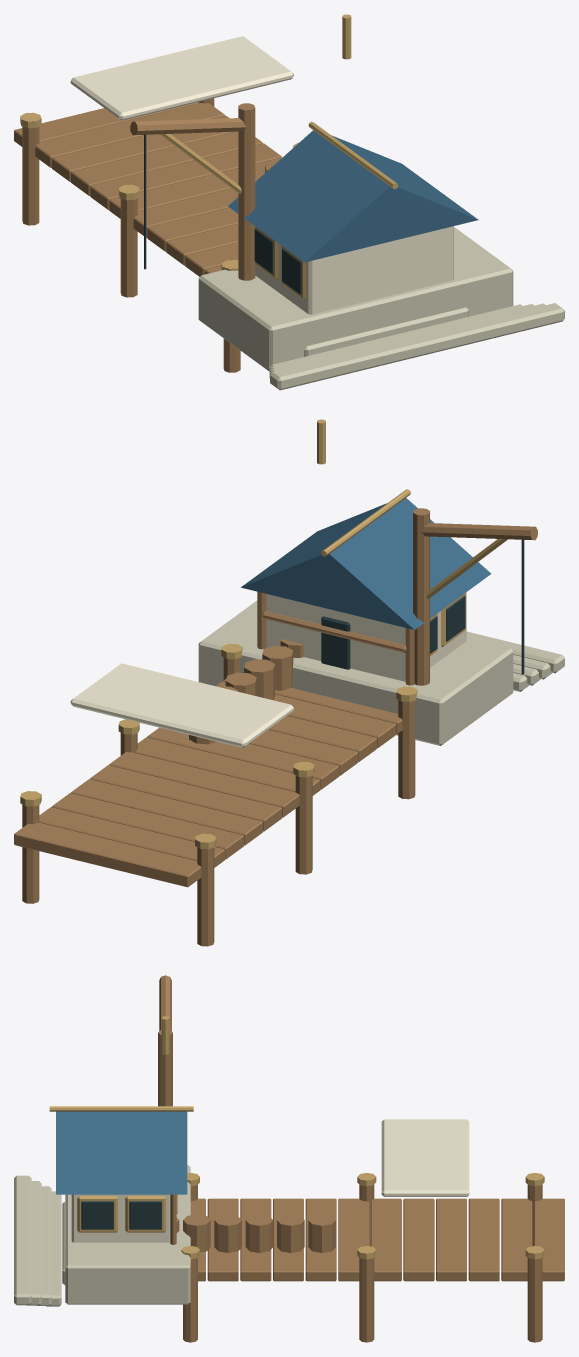
File: level_30.glb
3 views of the same model, one above another, from view 1: azimuth 30°, elevation 25°; view 2: azimuth 150°, elevation 25°; view 3: azimuth 270°, elevation 25° (orthographic). The views are drawn at different scales.
Parts seen in each view (by area): view 1: fishing_wharf — level 30; view 2: fishing_wharf — level 30; view 3: fishing_wharf — level 30.
Boxes of the visible parts, x1,y1,x2,y2 form: fishing_wharf — level 30: (14,14,564,390); fishing_wharf — level 30: (14,419,564,946); fishing_wharf — level 30: (14,975,564,1342).
Bounding box in the file's own units: 5.45 × 5.11 × 8.8.
